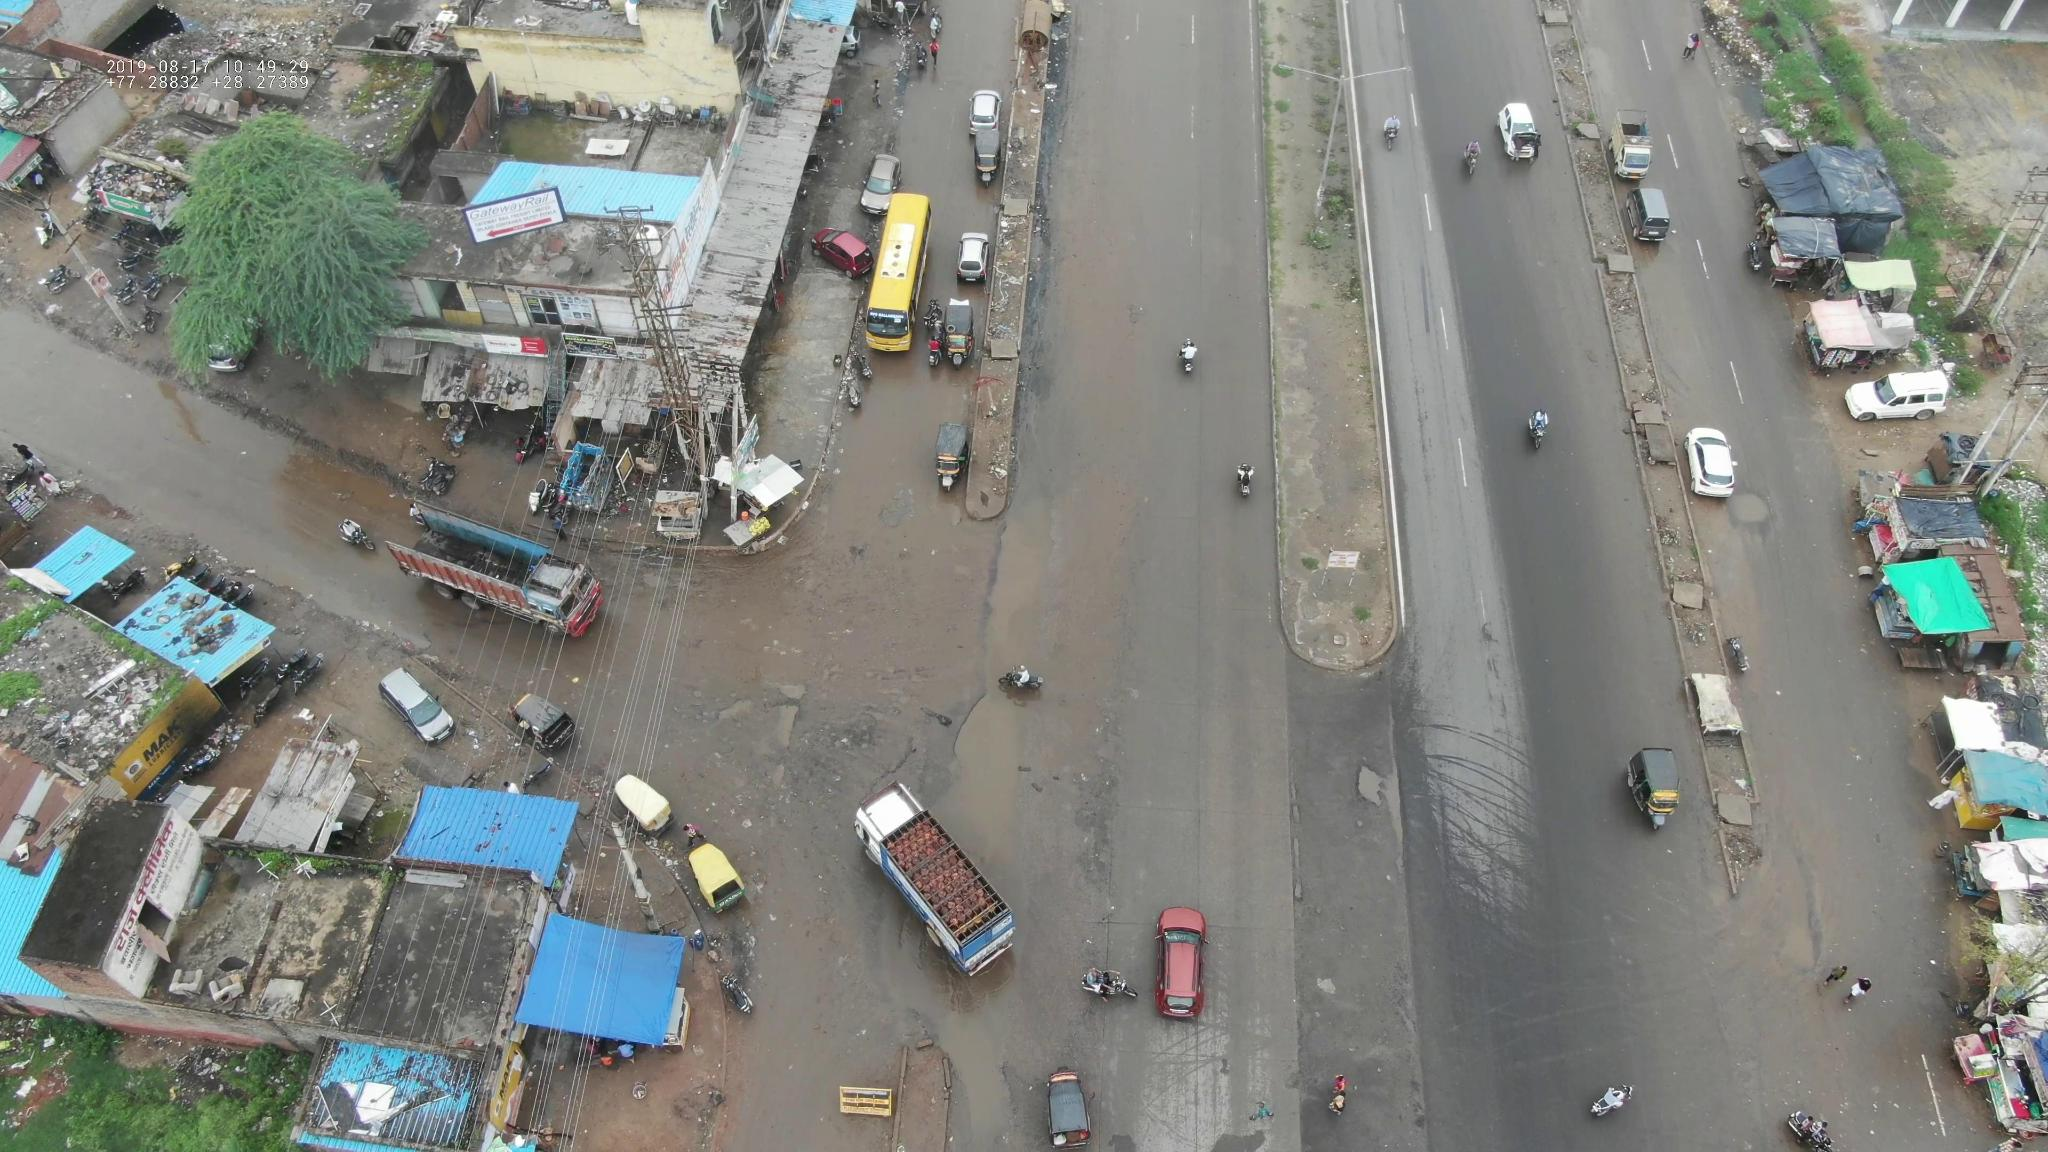Potholes: (731, 686, 992, 788), (1760, 821, 1824, 986)
